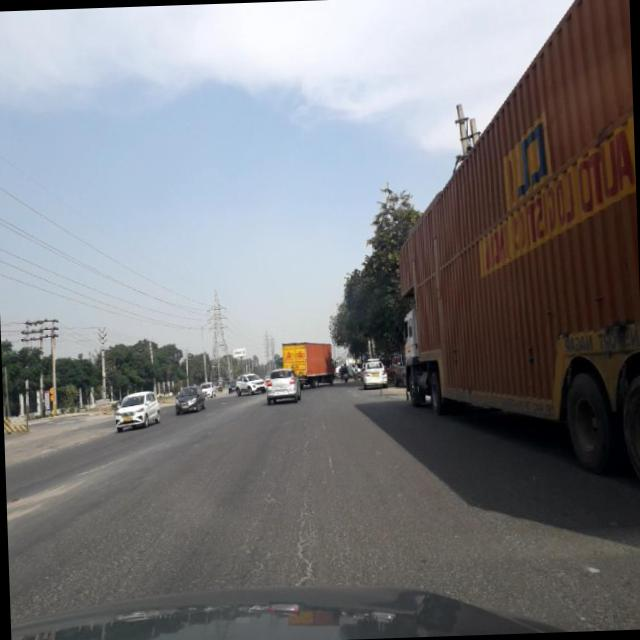pothole: (277, 489, 326, 587), (310, 404, 344, 483)
